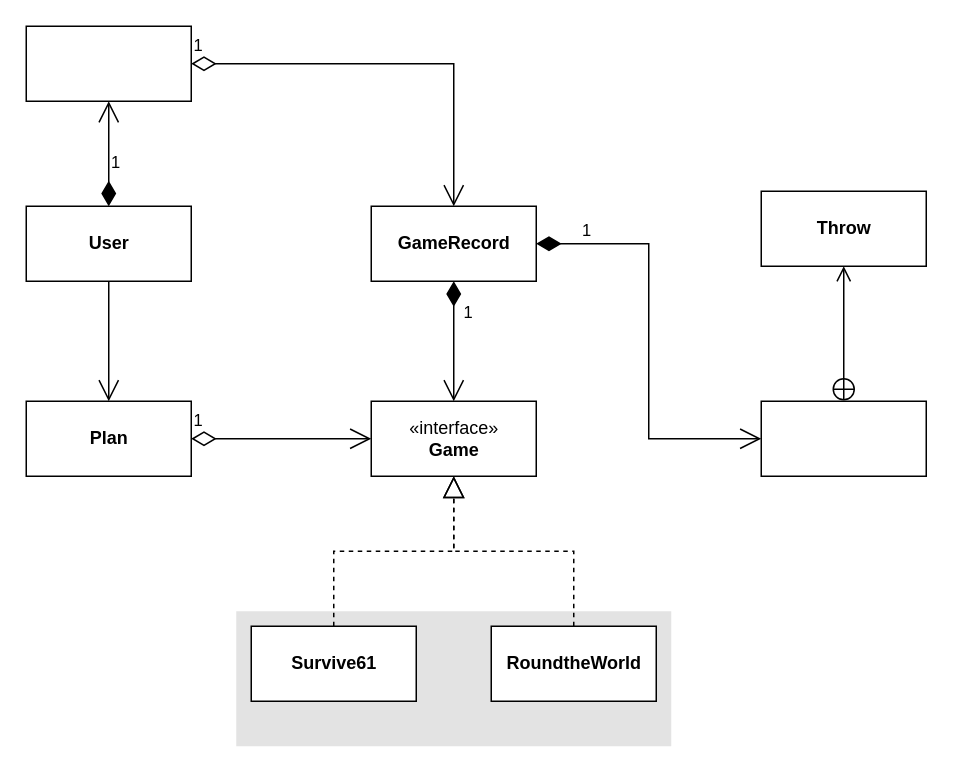
The diagram is 953 pixels wide and 773 high, and some of its shapes have lost their labels. The box of each missing label's shape, as (x1, y1, x2, y2) in pixels:
Statistik: (25, 25, 191, 101)
ThrowSet: (760, 400, 926, 476)
weitere Spiele: (236, 610, 670, 746)
